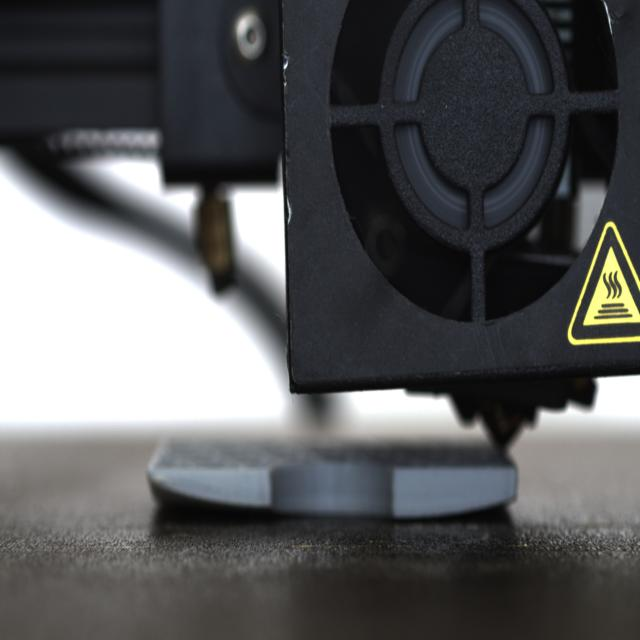Warping: (145, 476, 265, 522)
